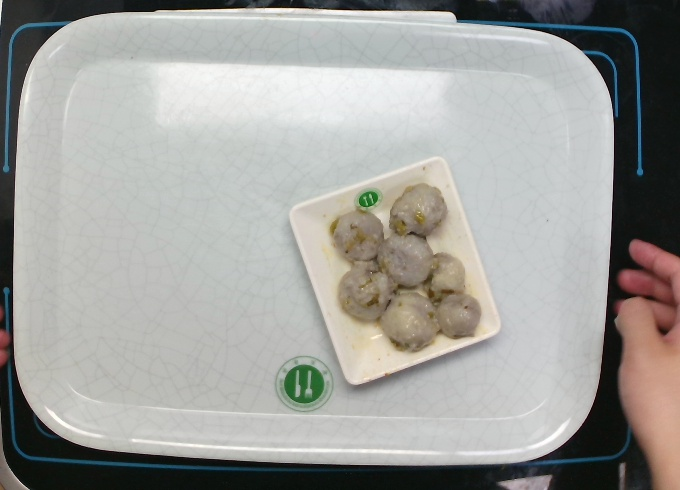WCQzf-Bai_Se_Si_Fang_Die: (287, 156, 506, 392)
